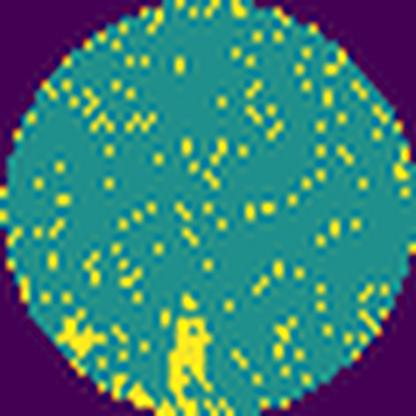Loc: (165, 316, 210, 416), (58, 311, 108, 360)
